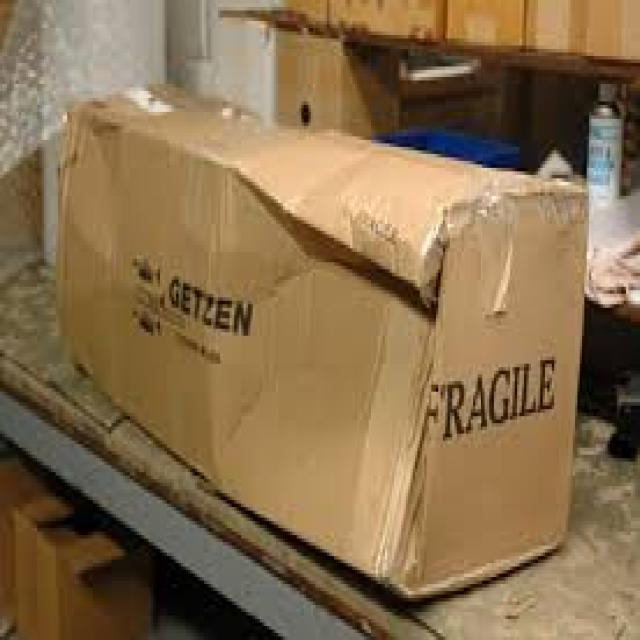Kardus kondisi rusak: (57, 81, 590, 608)
